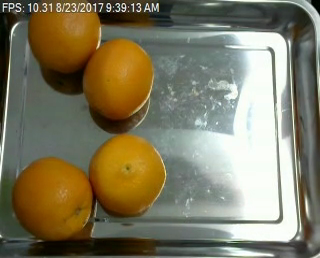Orange: (11, 157, 92, 239), (88, 133, 167, 215), (83, 38, 154, 120), (27, 1, 101, 73)
